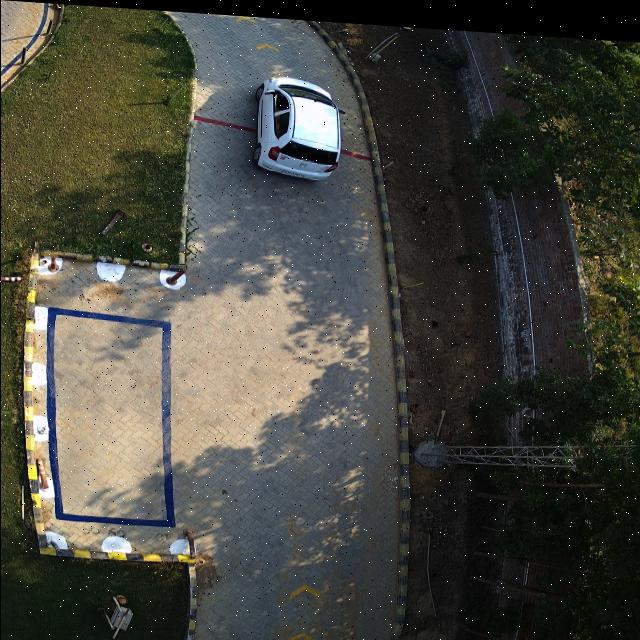car: (251, 72, 340, 175)
